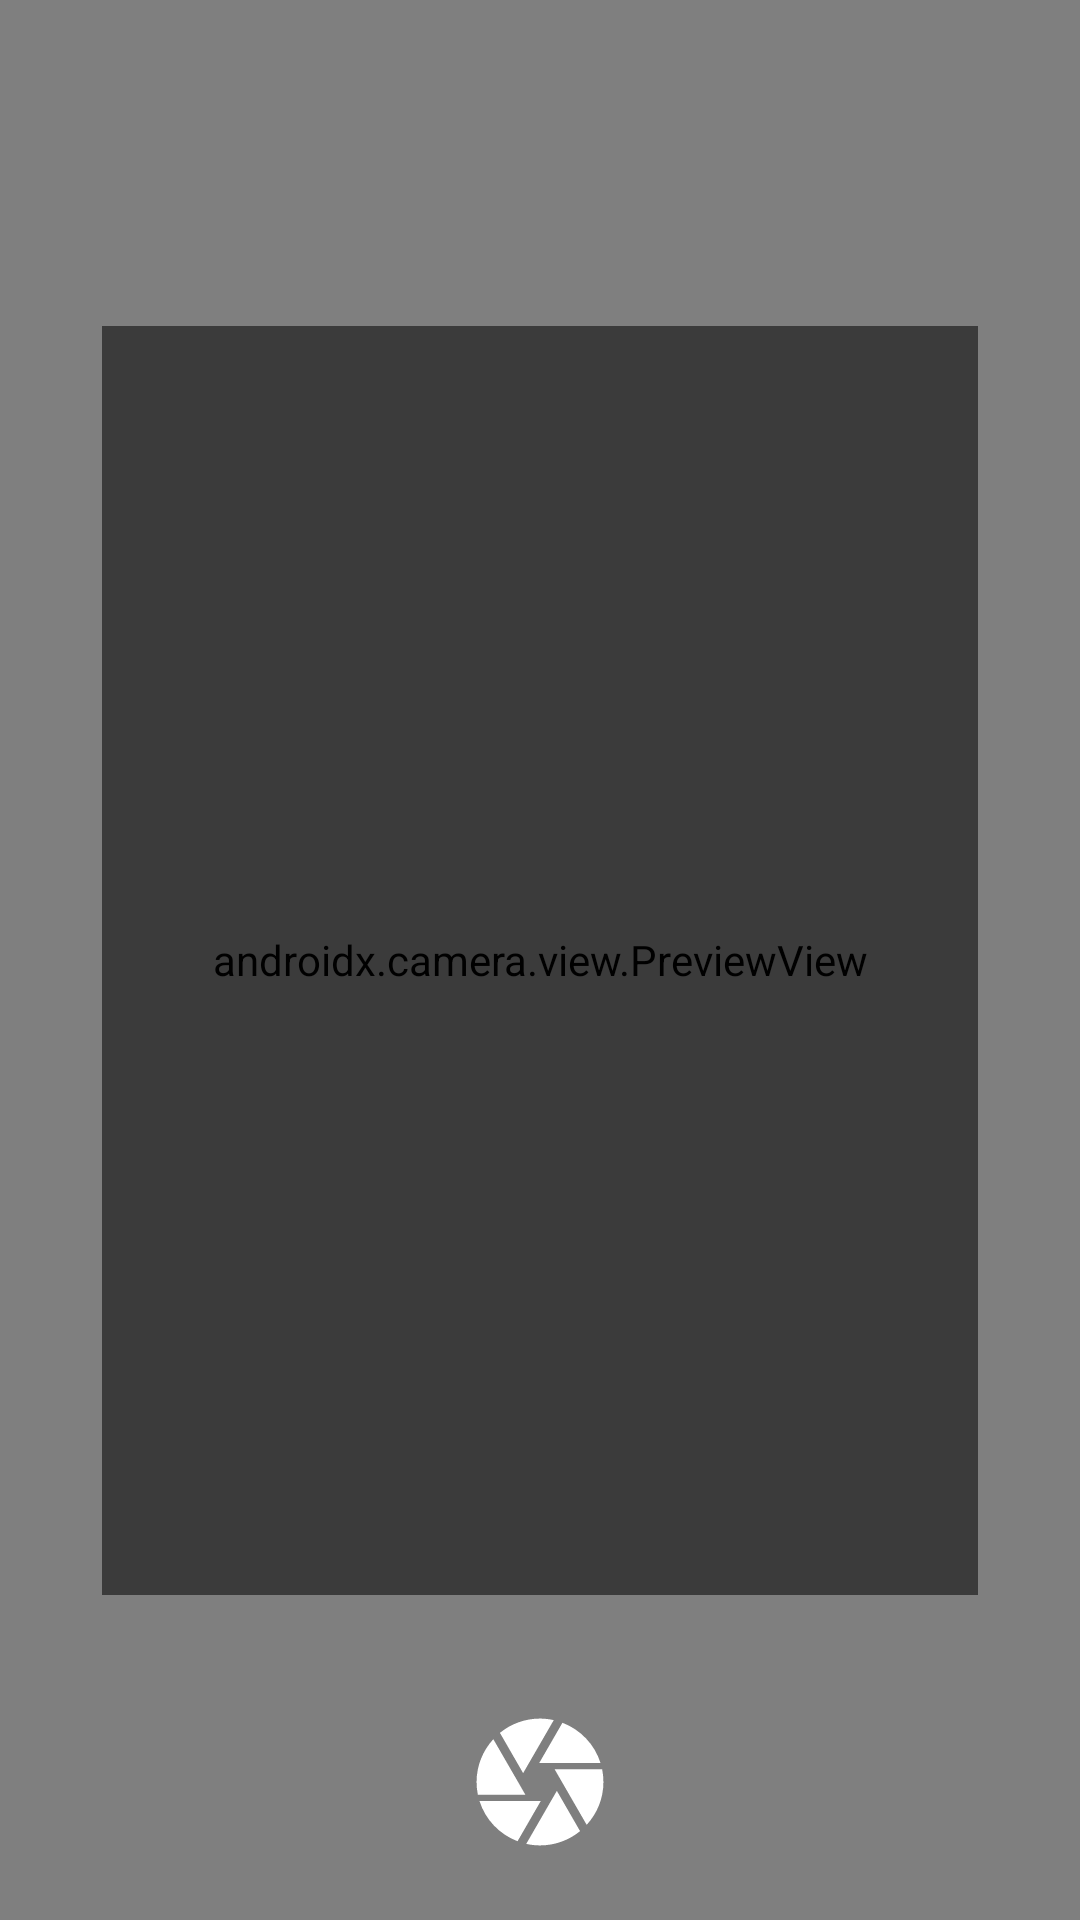

Icons on this 1080*1920 Android screen, each with its box as BBox(x1, y1, x2, y2):
snap: BBox(476, 1718, 604, 1846)
